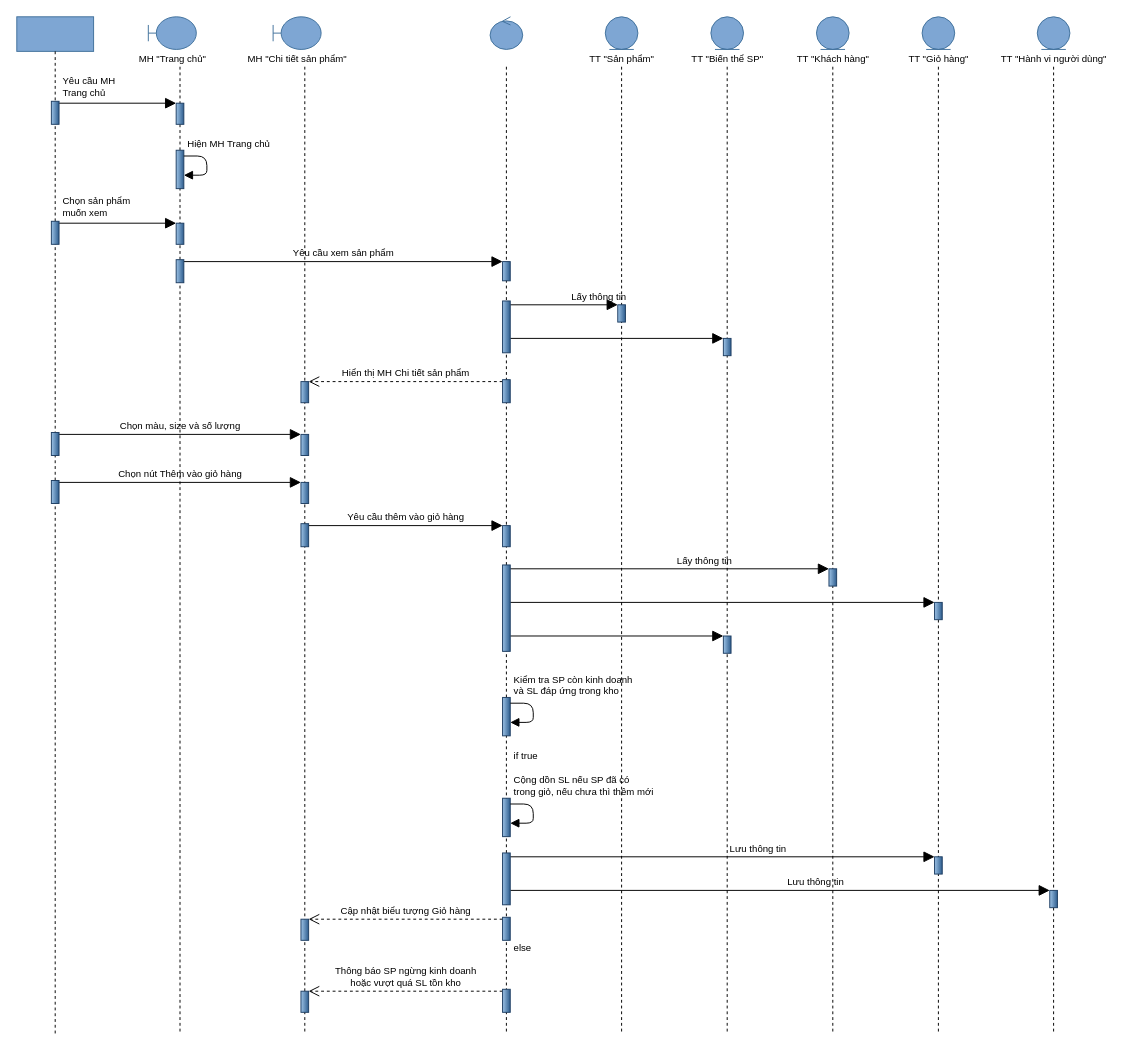
Image size: 1123x1052. Some labels were removed from this diagram. Each missing label, with the centre of its shape:
"Khách hàng" belongs at (x=55, y=33).
"Xử lý Thêm vào giỏ hàng" belongs at (x=506, y=32).
